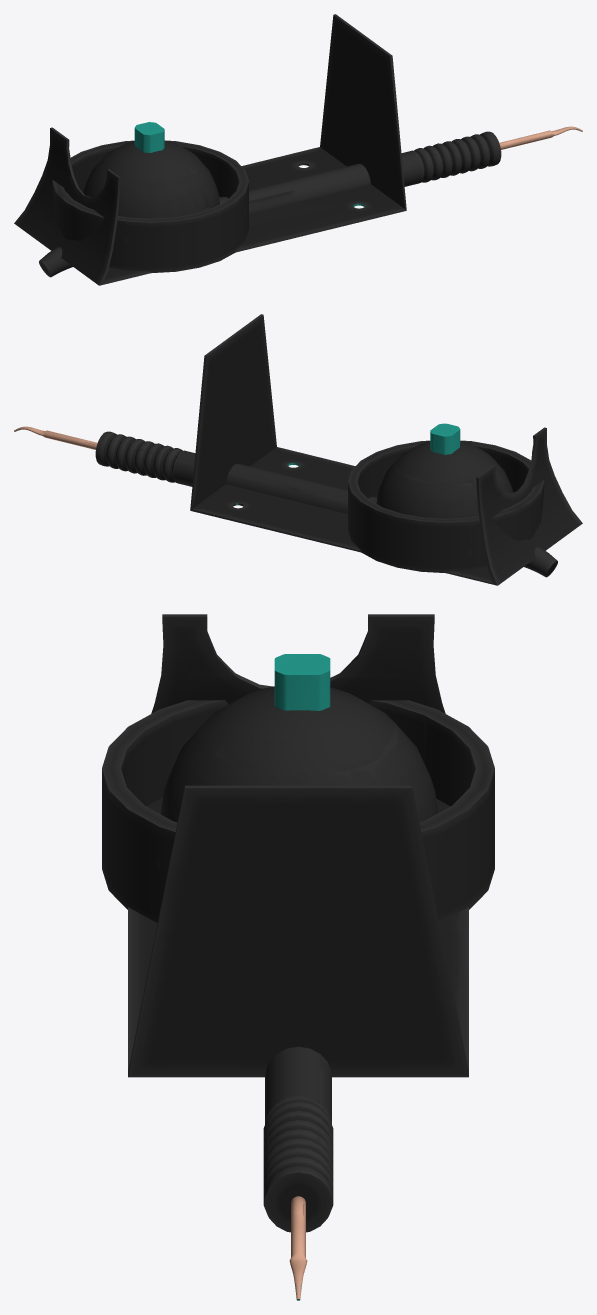
The picture shows the model from 3 angles, top to bottom: view 1: azimuth 30°, elevation 25°; view 2: azimuth 150°, elevation 25°; view 3: azimuth 270°, elevation 25°; orthographic projection. The views are drawn at different scales.
Parts seen in each view (by area): view 1: 301_HanLaJi_DiZuo, 301_GuZuo_DiBu, 301_HanLaJiBi, 301_GuZuo_LaTiao; view 2: 301_HanLaJi_DiZuo, 301_GuZuo_DiBu, 301_HanLaJiBi, 301_GuZuo_LaTiao; view 3: 301_HanLaJi_DiZuo, 301_GuZuo_DiBu, 301_HanLaJiBi, 301_GuZuo_LaTiao.
Boxes of the visible parts, <box> form: 301_HanLaJi_DiZuo: <box>14,14,406,285</box>; 301_GuZuo_DiBu: <box>52,140,248,273</box>; 301_HanLaJiBi: <box>39,126,582,277</box>; 301_GuZuo_LaTiao: <box>134,122,164,152</box>; 301_HanLaJi_DiZuo: <box>190,314,582,585</box>; 301_GuZuo_DiBu: <box>348,440,544,573</box>; 301_HanLaJiBi: <box>14,426,557,577</box>; 301_GuZuo_LaTiao: <box>430,423,460,454</box>; 301_HanLaJi_DiZuo: <box>128,614,468,1077</box>; 301_GuZuo_DiBu: <box>102,686,494,922</box>; 301_HanLaJiBi: <box>263,1046,333,1300</box>; 301_GuZuo_LaTiao: <box>274,654,330,710</box>.
Bounding box in the file's own units: 11.08 × 3.22 × 3.48.
Materials: 1 (1 with a texture image).
